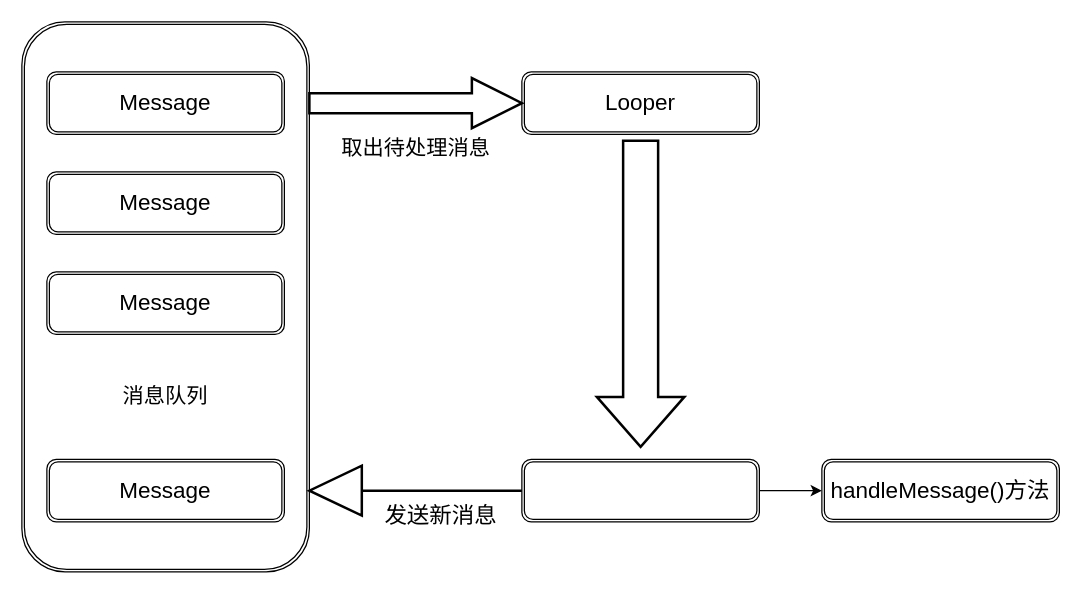
Image size: 1081x594. Some labels were removed from this diagram. Here are the shapes that lost their labels. From the top down, the box of each, then its label:
(595, 139, 685, 448): 回调disPatchMessage()方法
(521, 458, 759, 522): Handler
